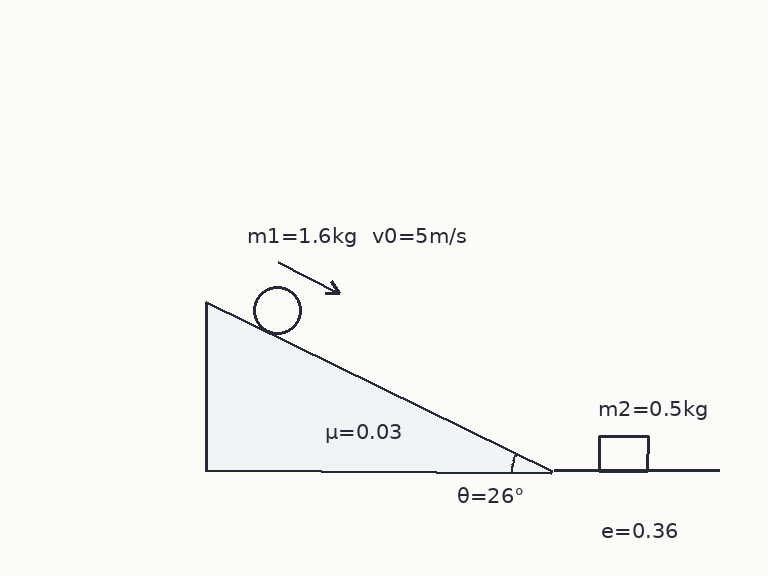ball: (251, 284, 303, 336)
block: (597, 433, 649, 473)
ramp: (203, 300, 554, 473)
